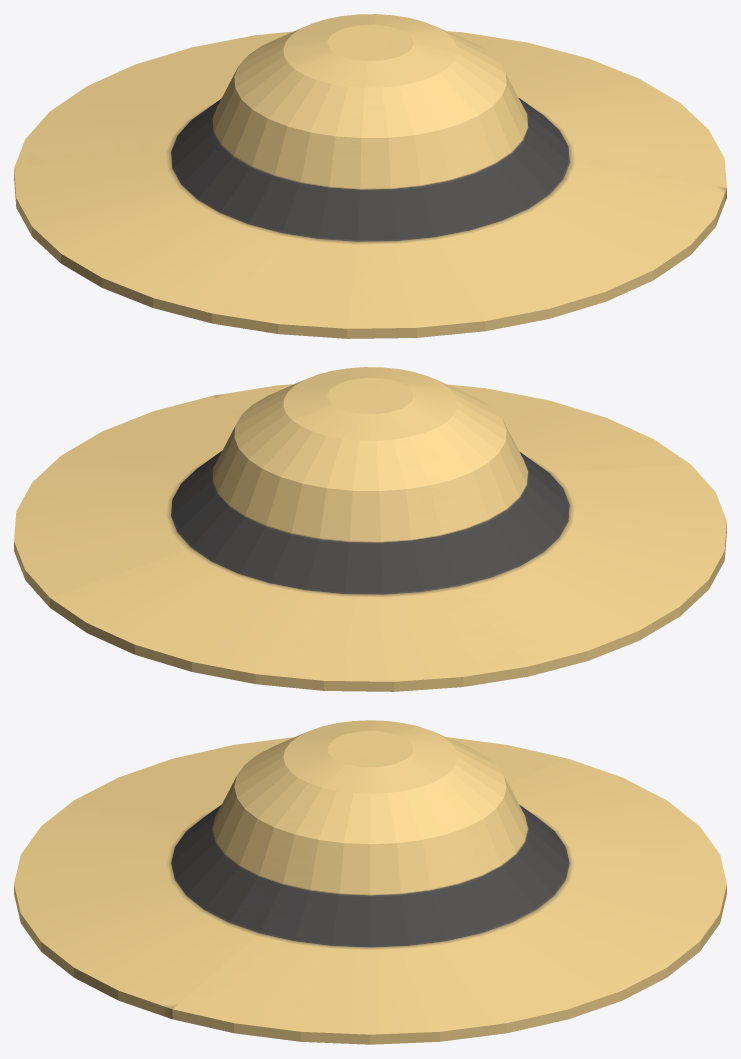
Rendered from hatcprsd.glb.
3 renders of one model, top to bottom at view 1: azimuth 30°, elevation 25°; view 2: azimuth 150°, elevation 25°; view 3: azimuth 270°, elevation 25°, orthographic.
Parts seen in each view (by area): view 1: Hat; view 2: Hat; view 3: Hat.
Part boxes in pixels (x1=…): Hat: x1=14, y1=14, x2=726, y2=338; Hat: x1=14, y1=367, x2=726, y2=691; Hat: x1=14, y1=720, x2=726, y2=1044.
Size of the model in its own units: 5.23 by 1.17 by 5.23.
Materials: 1 (1 with a texture image).
